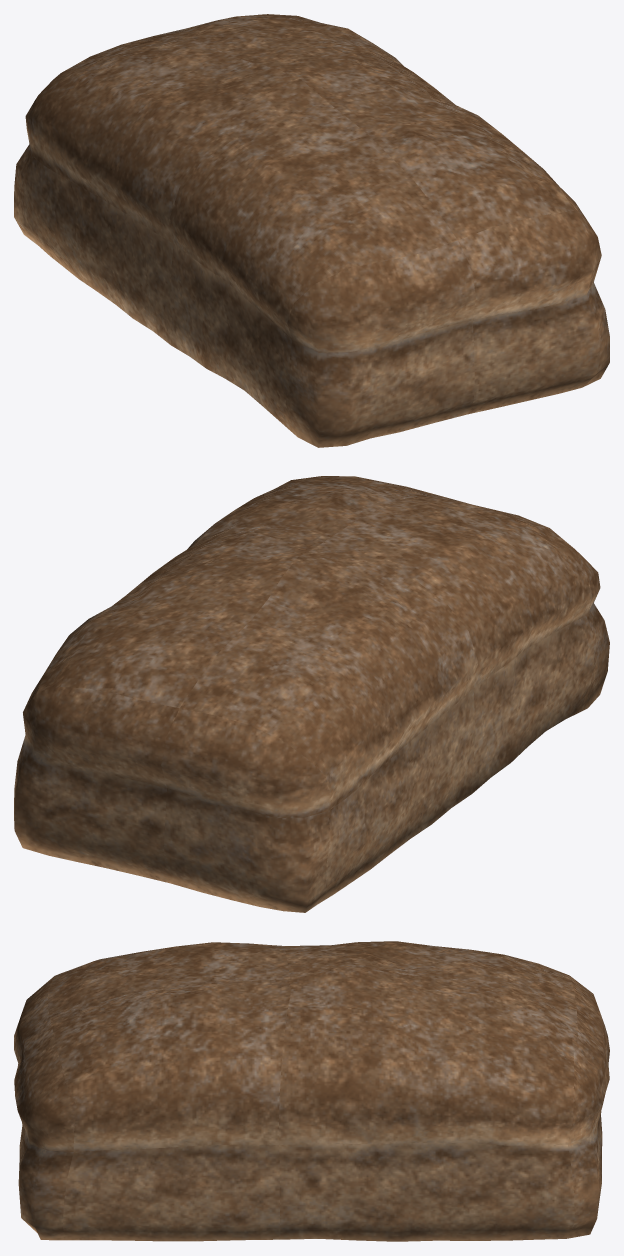
File: Bread_17.obj
The picture shows the model from 3 angles, top to bottom: view 1: azimuth 30°, elevation 25°; view 2: azimuth 150°, elevation 25°; view 3: azimuth 270°, elevation 25°; orthographic projection. The views are drawn at different scales.
Parts seen in each view (by area): view 1: bumpybread_b_mesh; view 2: bumpybread_b_mesh; view 3: bumpybread_b_mesh.
Boxes of the visible parts, left/top/right/bottom form: bumpybread_b_mesh: left=14, top=14, right=609, bottom=447; bumpybread_b_mesh: left=14, top=476, right=609, bottom=912; bumpybread_b_mesh: left=14, top=941, right=609, bottom=1241.
Bounding box in the file's own units: 0.1701 × 0.1144 × 0.2941.
